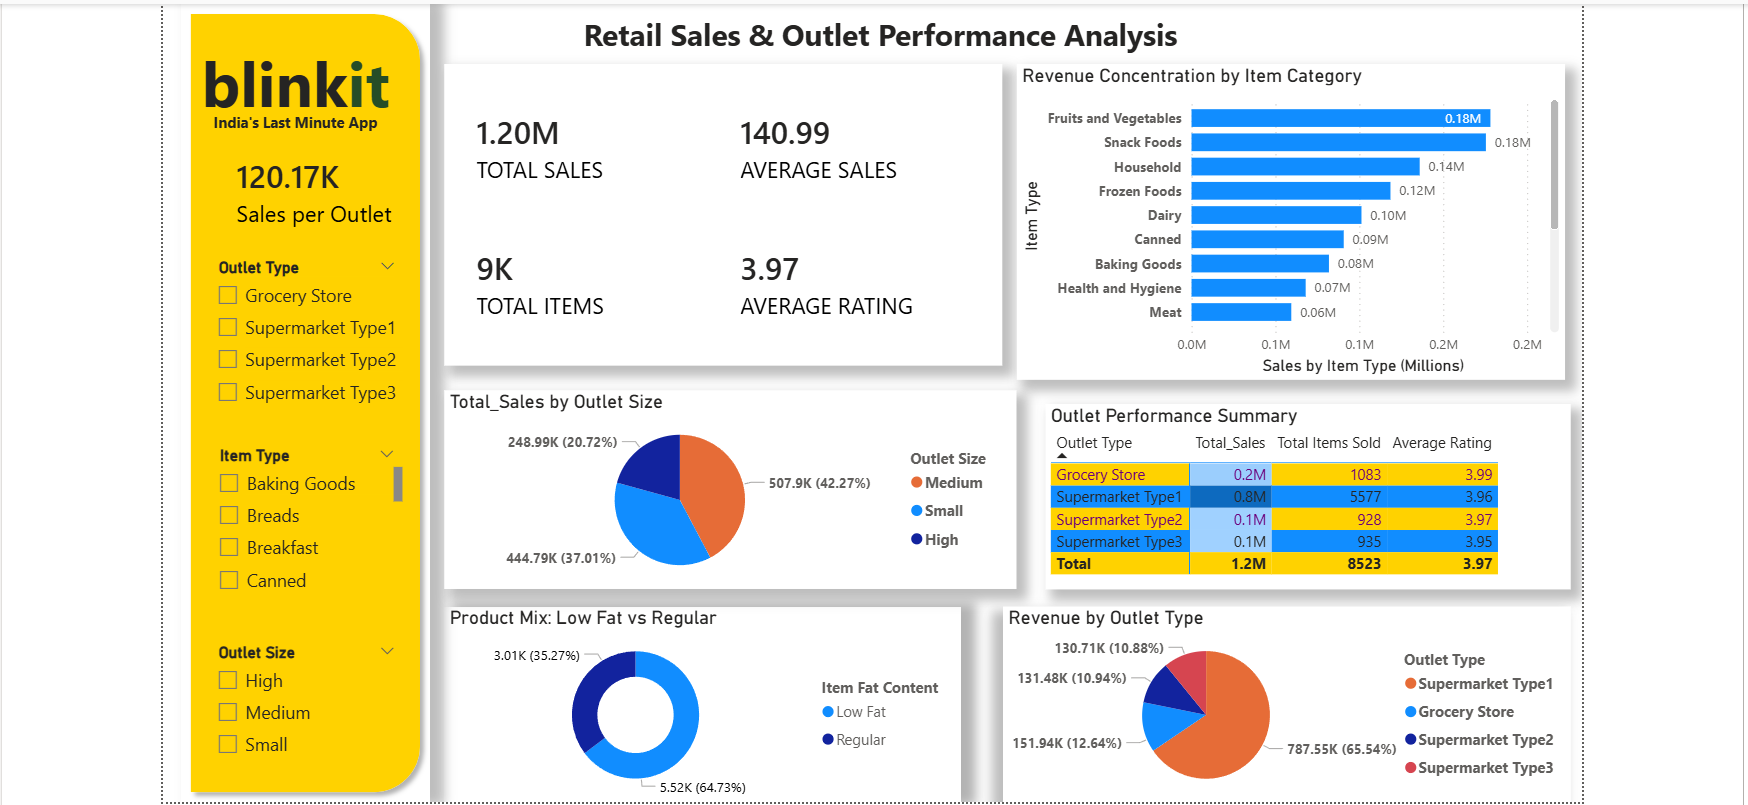

This screenshot's page, from the dashboard's own definition file:
{"tool":"powerbi","page":{"name":"Overview","canvas":[1280,720],"ordinal":0},"visuals":[{"type":"shape","box":[16.3,0,225,719.8],"z":0},{"type":"textbox","box":[23.3,26.7,191.9,100],"z":1000},{"type":"textbox","box":[23.5,92.7,191.5,34.6],"z":2000},{"type":"cardVisual","fields":{"Data":["Fact_Sales.Total_Sales","Fact_Sales.Average Sales per Item","Fact_Sales.Total Items Sold","Fact_Sales.Average Rating"]},"box":[253.5,54.7,503.5,272.1],"z":3000},{"type":"textbox","box":[373.6,4.1,548.1,49.5],"z":4000},{"type":"cardVisual","fields":{"Data":["Fact_Sales.Sales per Outlet"]},"box":[37.1,114,203.3,109.9],"z":5000},{"type":"slicer","fields":{"Values":["Fact_Sales.Outlet Type"]},"box":[37.1,223.9,184.1,149.7],"z":6000},{"type":"slicer","fields":{"Values":["Fact_Sales.Item Type"]},"box":[38.3,393.4,182.6,149.9],"z":7000},{"type":"slicer","fields":{"Values":["Fact_Sales.Outlet Size"]},"box":[37.1,571.5,184.1,125],"z":8000},{"type":"clusteredBarChart","title":"Revenue Concentration by Item Category","fields":{"Category":["Fact_Sales.Item Type"],"Y":["Sum(Fact_Sales.Total Sales)"]},"box":[769.8,54.7,494.2,284.9],"z":9000},{"type":"pivotTable","title":"Outlet Performance Summary","fields":{"Rows":["Fact_Sales.Outlet Type"],"Values":["Fact_Sales.Total_Sales","Fact_Sales.Total Items Sold","Fact_Sales.Average Rating"]},"box":[795.4,360.5,473.3,167.4],"z":10000},{"type":"pieChart","fields":{"Category":["Fact_Sales.Outlet Size"],"Y":["Fact_Sales.Total_Sales"]},"box":[253.5,348.8,516.3,179.1],"z":11000},{"type":"donutChart","title":"Product Mix: Low Fat vs Regular","fields":{"Category":["Fact_Sales.Item Fat Content"],"Y":["CountNonNull(Fact_Sales.Item Fat Content)"]},"box":[253.5,543,466.3,176.7],"z":12000},{"type":"pieChart","title":"Revenue by Outlet Type","fields":{"Y":["Sum(Fact_Sales.Total Sales)"],"Category":["Fact_Sales.Outlet Type"]},"box":[757,543,511.6,176.7],"z":13000}]}

Visuals, with their boxes on the page's 1280x720 design canvas (x1, y1, x2, y2). These are canvas units, not pixel positions in the 1748x805 screenshot, which may show the page scaled, cropped or inside an application window:
shape: locate(16, 0, 241, 720)
textbox: locate(23, 27, 215, 127)
textbox: locate(24, 93, 215, 127)
cardVisual - Fact_Sales.Total_Sales x Fact_Sales.Average Sales per Item: locate(254, 55, 757, 327)
textbox: locate(374, 4, 922, 54)
cardVisual - Fact_Sales.Sales per Outlet: locate(37, 114, 240, 224)
slicer - Fact_Sales.Outlet Type: locate(37, 224, 221, 374)
slicer - Fact_Sales.Item Type: locate(38, 393, 221, 543)
slicer - Fact_Sales.Outlet Size: locate(37, 572, 221, 696)
"Revenue Concentration by Item Category" clusteredBarChart: locate(770, 55, 1264, 340)
"Outlet Performance Summary" pivotTable: locate(795, 360, 1269, 528)
pieChart - Fact_Sales.Outlet Size x Fact_Sales.Total_Sales: locate(254, 349, 770, 528)
"Product Mix: Low Fat vs Regular" donutChart: locate(254, 543, 720, 720)
"Revenue by Outlet Type" pieChart: locate(757, 543, 1269, 720)
